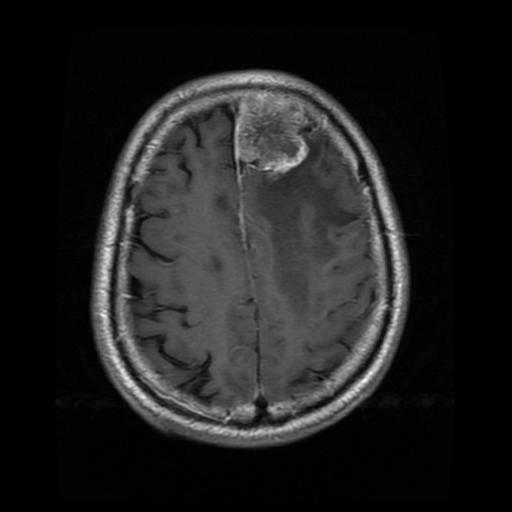Tumour-Pituitary: (214, 95, 324, 192)
